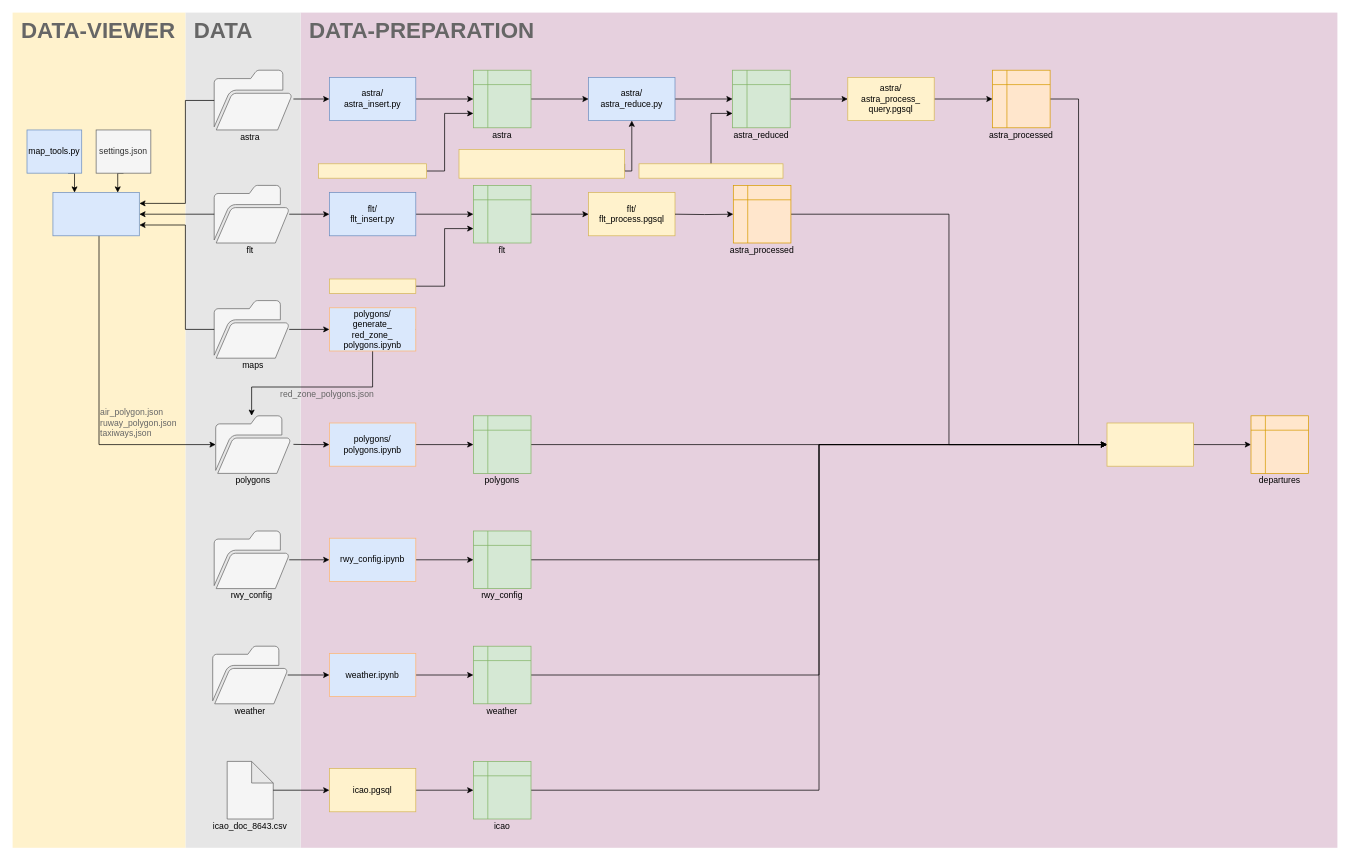
This 1349x860 diagram has some shape labels left out. Here are the shapes that lost their labels. From the top down, the box of each, then its label:
(318, 163, 427, 178): astra/astra_schema.pgsql
(458, 149, 625, 178): astra/generic_astra_reduce_query.pgsql astra/utils.pgsql
(638, 163, 783, 178): astra/astra_reduce_schema.pgsql
(52, 192, 139, 236): radar.py
(329, 278, 416, 293): flt/flt_schema.pgsql
(1106, 422, 1193, 466): departures.pgsql
